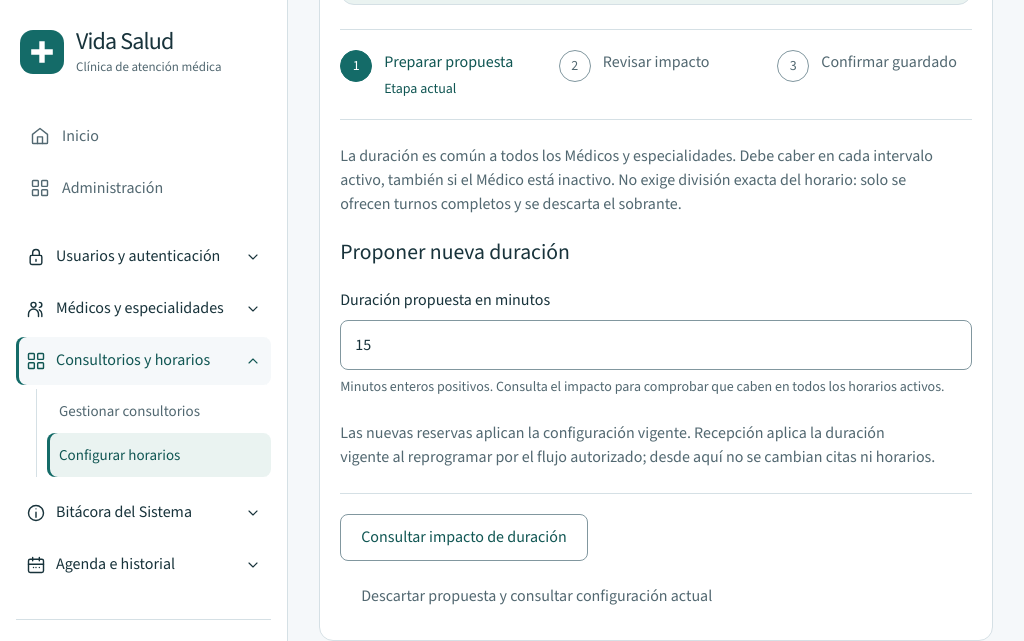
no-op no genera POST ni PATCH
The width and height of the screenshot is (1024, 641).
(page scrolled)
Expected: the field labelled "Duración propuesta en minutos" is shown, [340, 320, 972, 370]
Click the button "Consultar impacto de duración": (464, 538) [340, 514, 588, 561]
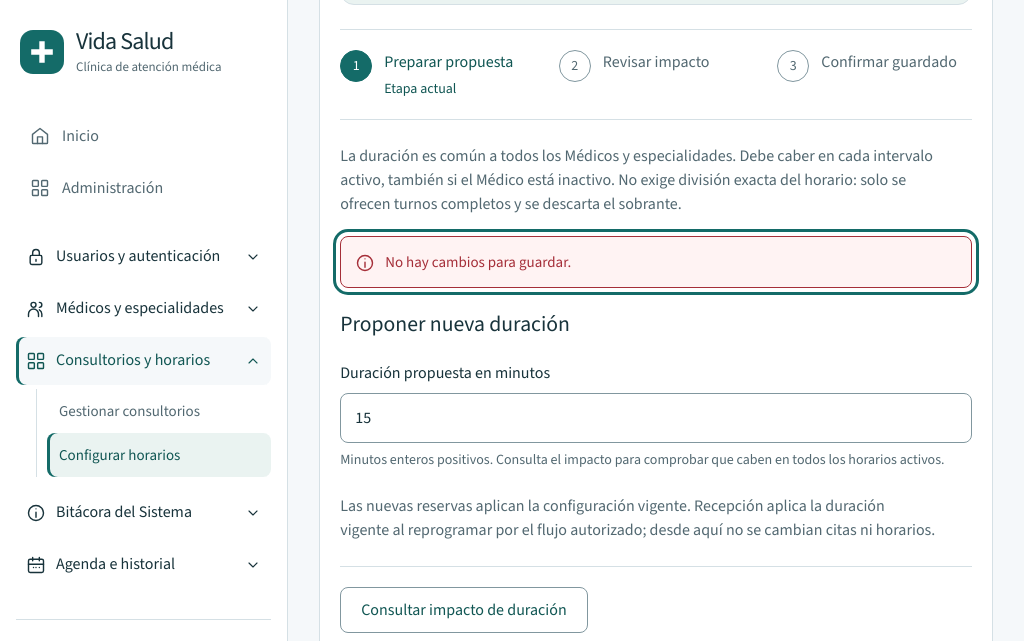
Result: the text "No hay cambios para guardar." is shown at [385, 252, 571, 272]
